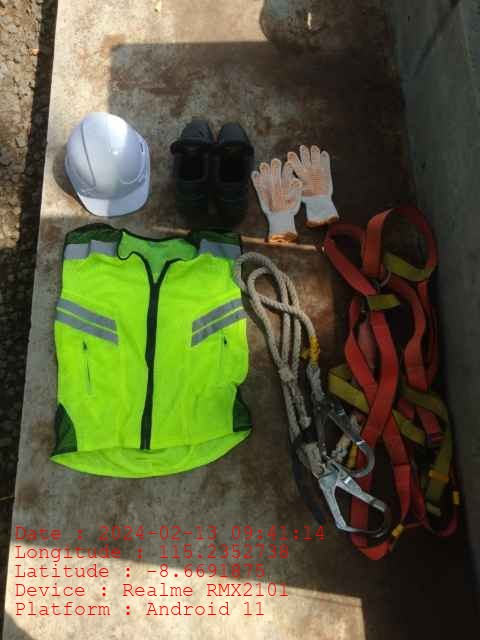HELM: (64, 111, 150, 217)
ROMPI: (54, 223, 248, 479)
SARUNG_TANGAN: (285, 145, 341, 231), (250, 158, 300, 239)
SEPATU: (169, 118, 253, 223)
TAMBANG_SLING: (232, 253, 394, 528)
